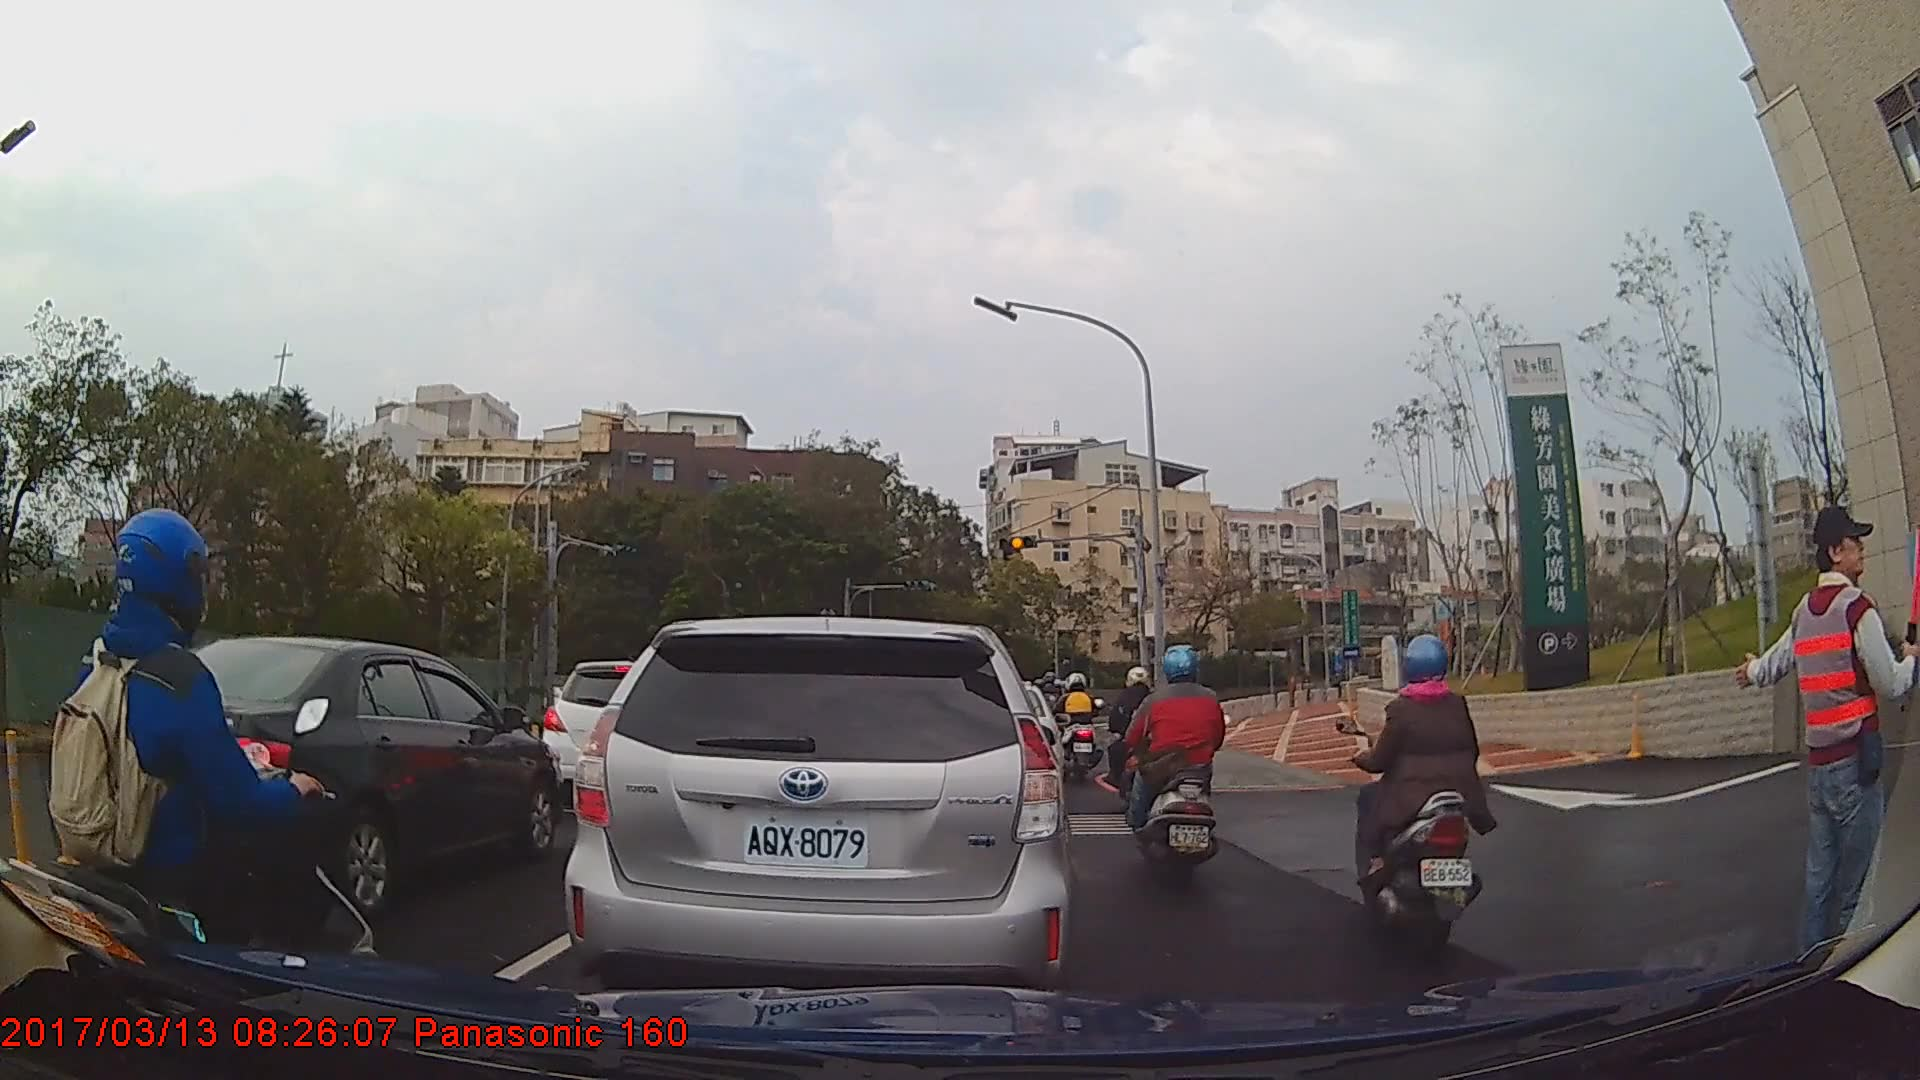pedestrian: (1737, 500, 1918, 979)
rider: (1, 511, 384, 1080), (1348, 633, 1484, 968), (1124, 645, 1221, 884), (1110, 662, 1164, 809), (1061, 669, 1105, 783)
vehicle: (563, 613, 1076, 1001), (68, 633, 563, 909)
